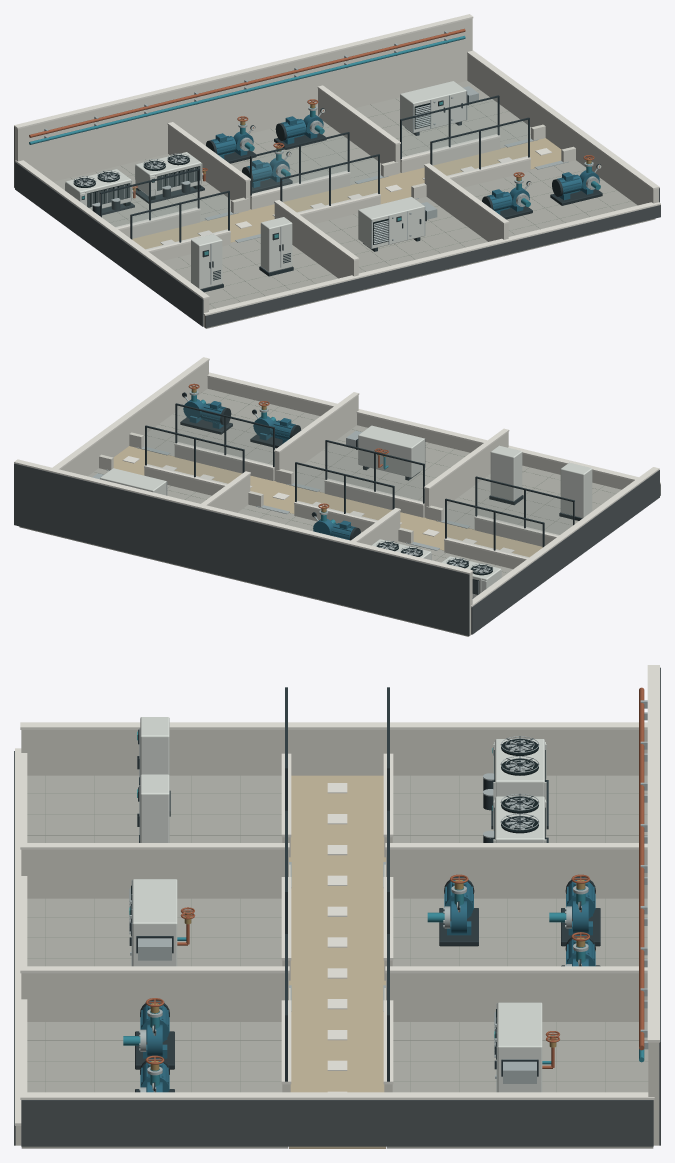
The model's file is equiplog-floor.glb.
The picture shows the model from 3 angles, top to bottom: view 1: azimuth 30°, elevation 25°; view 2: azimuth 150°, elevation 25°; view 3: azimuth 270°, elevation 25°; orthographic projection. The views are drawn at different scales.
Visible parts, largest first — view 1: Warm mineral plaster, Warm grey epoxy, Low iron partition glass, Honed limestone edges, Graphite facade, Ivory enamel (×6), Sandstone corridor, Powder coated graphite (×5), Brushed stainless steel (×5), Pump enamel / petrol blue (×5), Floor joints, Rubber and coil fins (×2) (+2 smaller); view 2: Graphite facade, Warm mineral plaster, Low iron partition glass, Warm grey epoxy, Honed limestone edges, Ivory enamel (×5), Sandstone corridor, Powder coated graphite (×2), Pump enamel / petrol blue (×3), Floor joints, Brushed stainless steel; view 3: Warm grey epoxy, Warm mineral plaster, Honed limestone edges, Graphite facade, Sandstone corridor, Ivory enamel (×6), Floor joints, Brushed stainless steel (×5), Powder coated graphite (×3), Pump enamel / petrol blue (×3), Return water / terracotta, Rubber and coil fins (×2).
Part boxes in pixels (bbox=[...]): Warm mineral plaster: bbox=[14, 18, 658, 327]; Warm grey epoxy: bbox=[53, 81, 655, 328]; Low iron partition glass: bbox=[102, 98, 527, 249]; Honed limestone edges: bbox=[14, 14, 660, 315]; Graphite facade: bbox=[14, 127, 660, 327]; Ivory enamel (×6): bbox=[65, 81, 466, 289]; Sandstone corridor: bbox=[132, 138, 561, 249]; Powder coated graphite (×5): bbox=[74, 95, 602, 242]; Brushed stainless steel (×5): bbox=[44, 31, 568, 248]; Pump enamel / petrol blue (×5): bbox=[211, 114, 599, 214]; Floor joints: bbox=[70, 90, 631, 308]; Rubber and coil fins (×2): bbox=[73, 155, 200, 207]; Graphite facade: bbox=[14, 463, 660, 635]; Warm mineral plaster: bbox=[60, 361, 660, 635]; Low iron partition glass: bbox=[147, 406, 572, 557]; Warm grey epoxy: bbox=[19, 388, 621, 636]; Honed limestone edges: bbox=[14, 357, 660, 607]; Ivory enamel (×5): bbox=[100, 425, 592, 597]; Sandstone corridor: bbox=[113, 446, 542, 557]; Powder coated graphite (×2): bbox=[145, 392, 574, 550]; Pump enamel / petrol blue (×3): bbox=[183, 399, 355, 540]; Floor joints: bbox=[94, 392, 614, 572]; Brushed stainless steel: bbox=[106, 446, 470, 550]; Warm grey epoxy: bbox=[21, 775, 653, 1148]; Warm mineral plaster: bbox=[15, 730, 659, 1145]; Honed limestone edges: bbox=[15, 665, 659, 1125]; Graphite facade: bbox=[14, 667, 660, 1146]; Sandstone corridor: bbox=[289, 775, 385, 1148]; Ivory enamel (×6): bbox=[132, 717, 546, 1092]; Floor joints: bbox=[27, 776, 647, 1091]; Brushed stainless steel (×5): bbox=[129, 700, 648, 1091]; Powder coated graphite (×3): bbox=[285, 687, 548, 1081]; Pump enamel / petrol blue (×3): bbox=[140, 877, 595, 1058]; Return water / terracotta: bbox=[639, 687, 644, 1050]; Rubber and coil fins (×2): bbox=[494, 739, 545, 839].
Size of the model in its own units: 18.3 by 2.52 by 13.3.
